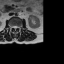CCS_normal: (14, 24, 16, 31)
LFS_normal: (17, 24, 19, 30)
LLS_normal: (16, 24, 17, 30)
RFS_normal: (10, 24, 12, 29)
RLS_normal: (12, 24, 14, 29)
